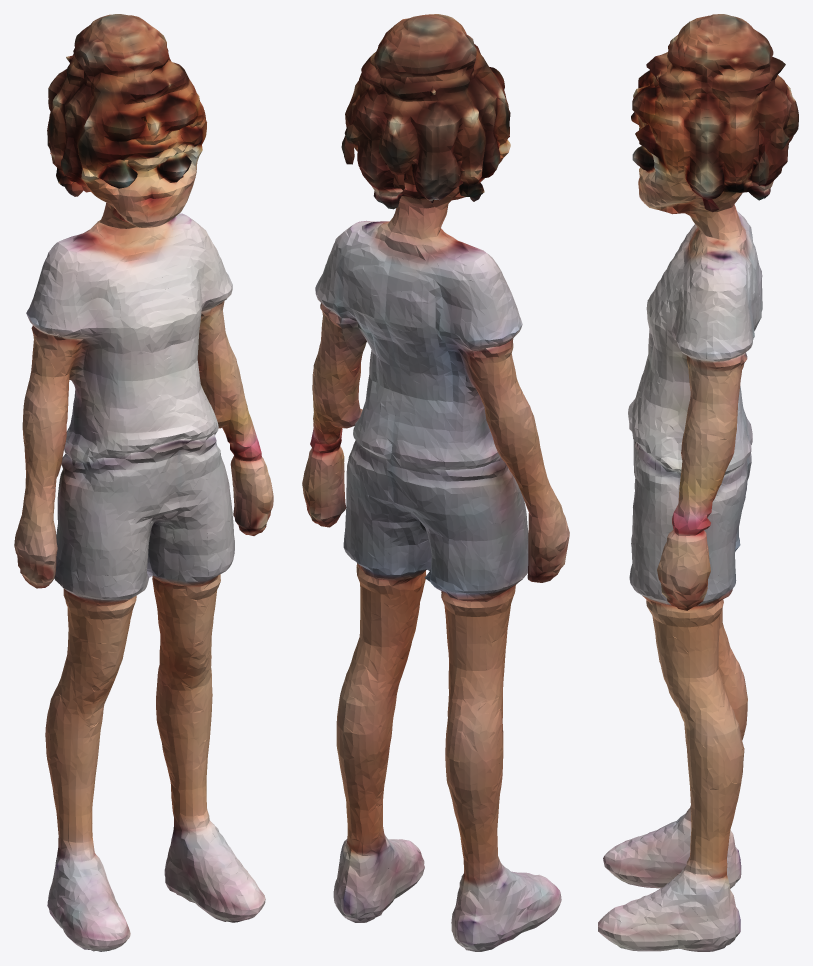
Rendered from tee_white.glb.
The picture shows the model from 3 angles, left to right: view 1: azimuth 30°, elevation 25°; view 2: azimuth 150°, elevation 25°; view 3: azimuth 270°, elevation 25°; orthographic projection. The views are drawn at different scales.
Visible parts, largest first — view 1: geometry_0; view 2: geometry_0; view 3: geometry_0.
Boxes of the visible parts, x1,y1,x2,y2 form: geometry_0: [14, 14, 273, 951]; geometry_0: [302, 14, 569, 951]; geometry_0: [598, 14, 798, 951].
Size of the model in its own units: 0.2942 by 1 by 0.2038.
Materials: 1 (1 with a texture image).
